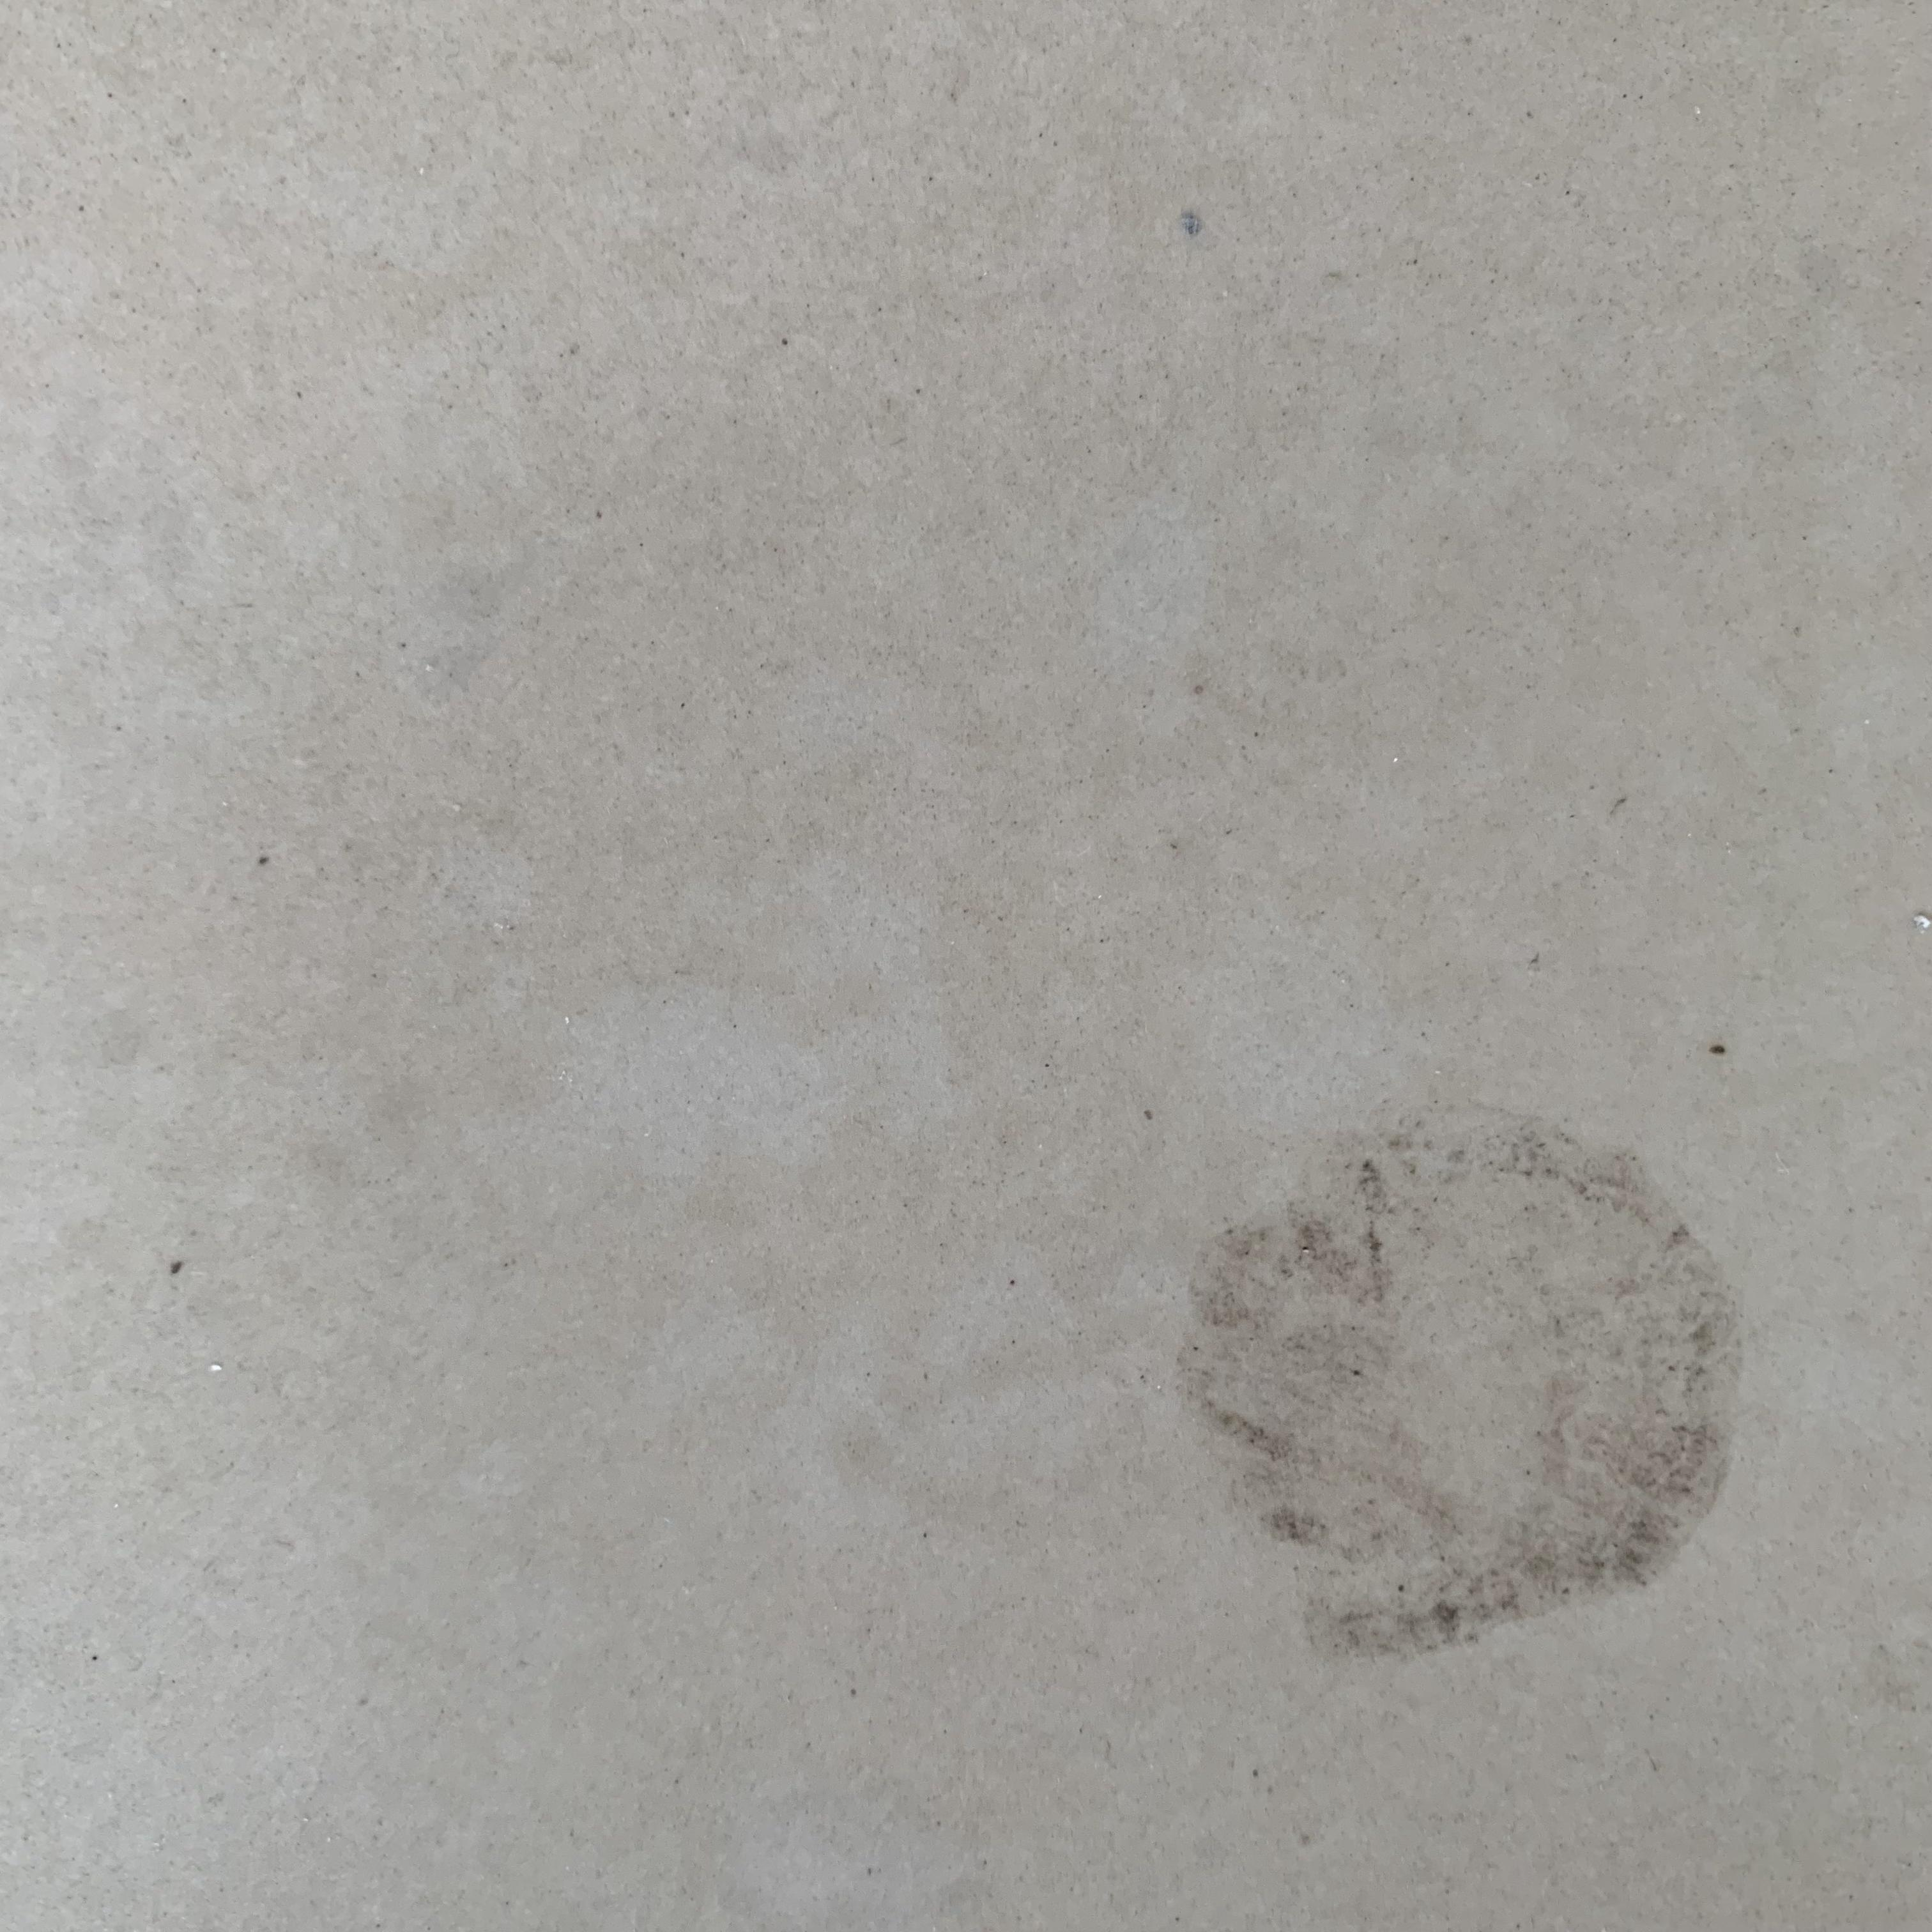grey spot: (1177, 1115, 1739, 1658)
